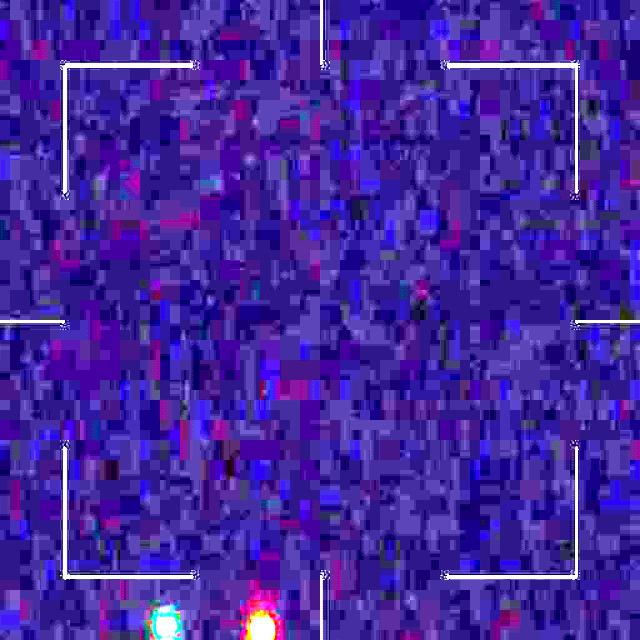bird: (151, 608, 274, 640)
